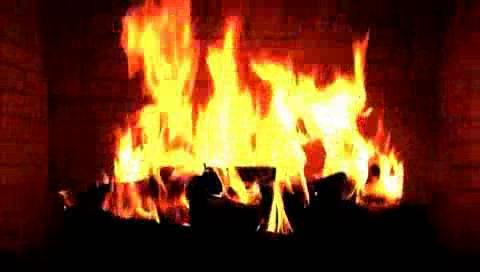fire: (113, 5, 399, 218)
